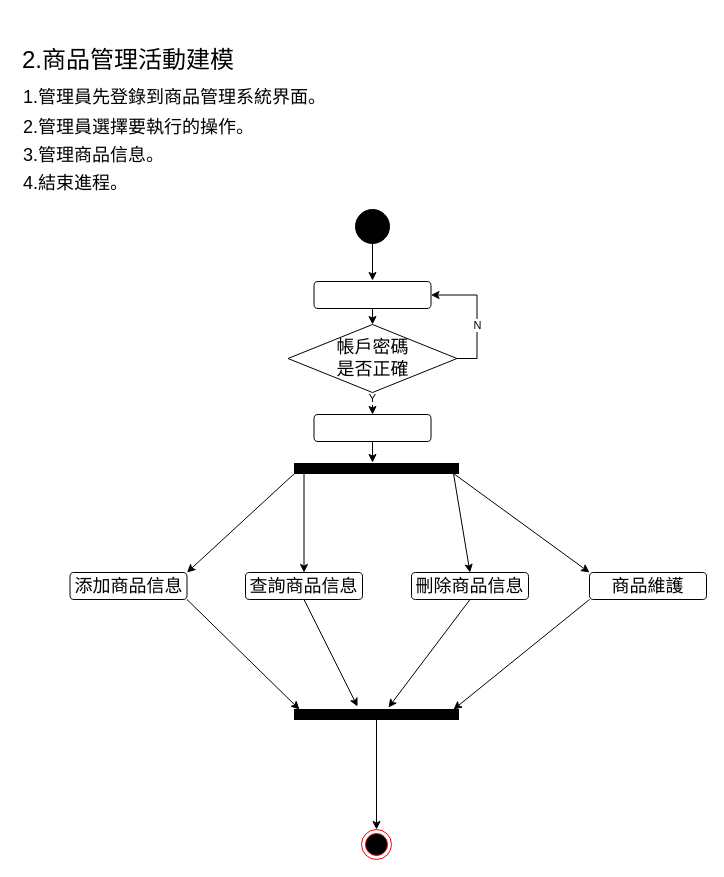
Some shapes in this 724 by 877 pixel diagram are drawn without their labels. The shapes that lost their labels are listed below. From the top down, each one's box as (x1, y1, x2, y2) in pixels, then its label:
(313, 280, 431, 308): 管理員登陸
(313, 414, 431, 442): 商品管理
